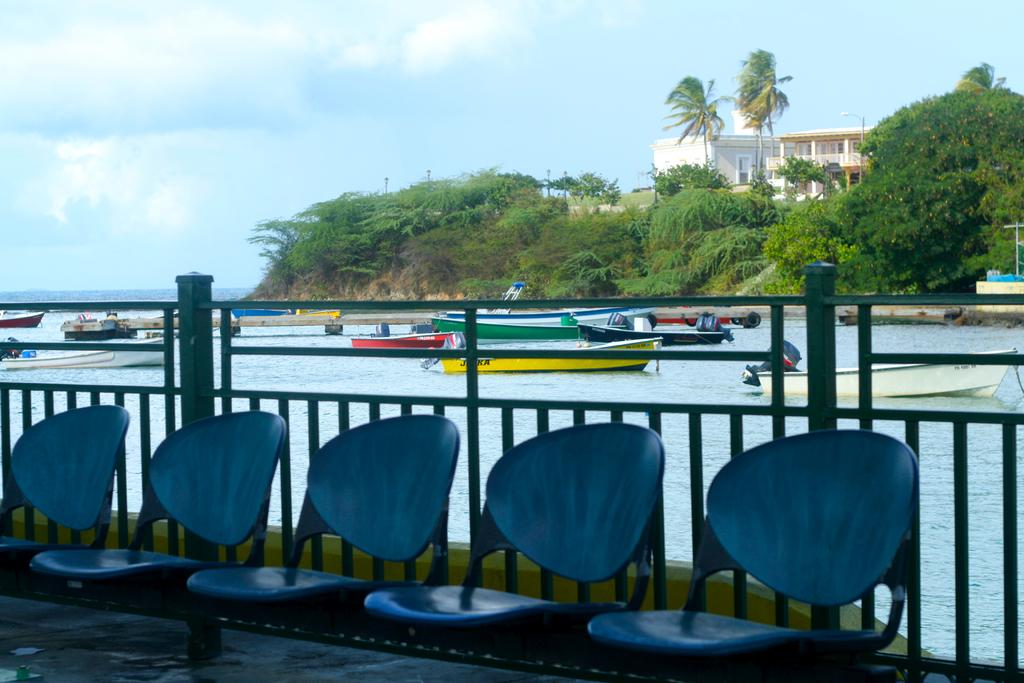Chair: (586, 428, 920, 681), (185, 413, 460, 659), (363, 421, 665, 636)
